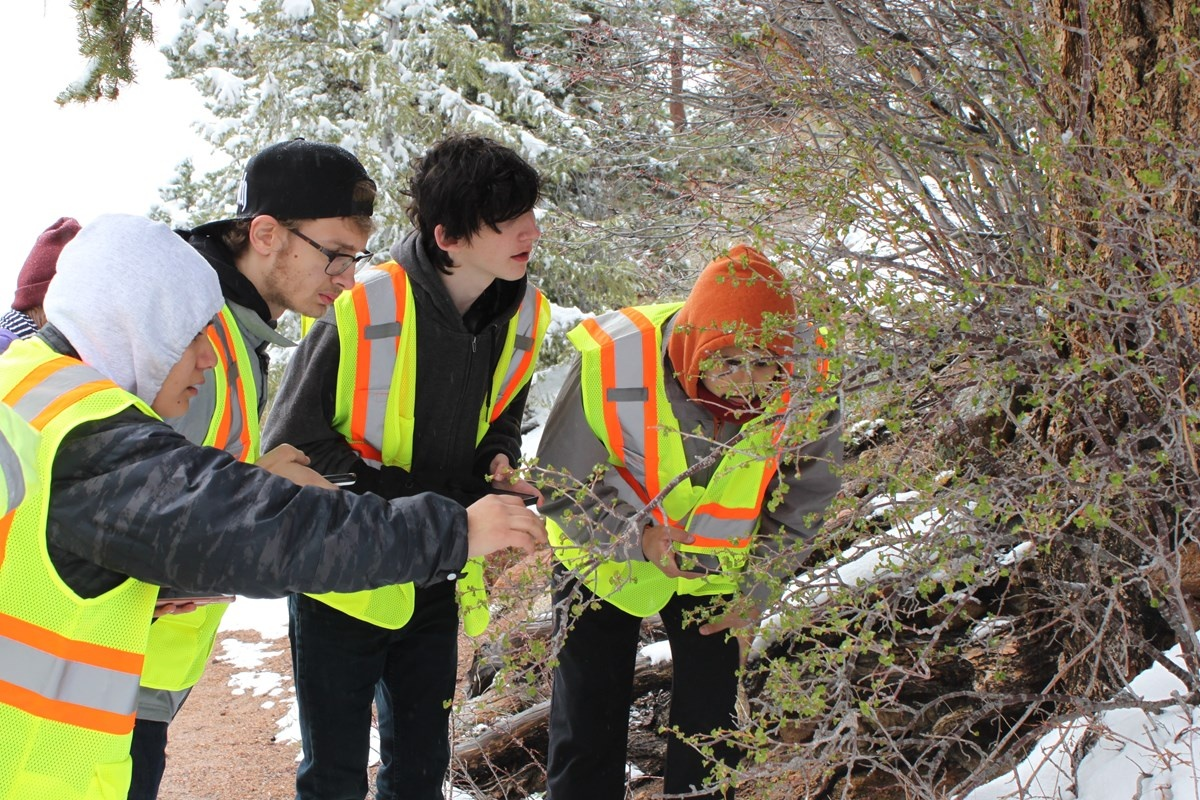person with partial safety: (300, 129, 540, 800), (560, 237, 840, 800), (152, 130, 365, 715), (2, 217, 209, 800)
safety vest: (568, 307, 819, 602), (336, 264, 529, 638), (3, 337, 151, 799), (146, 303, 275, 694)
